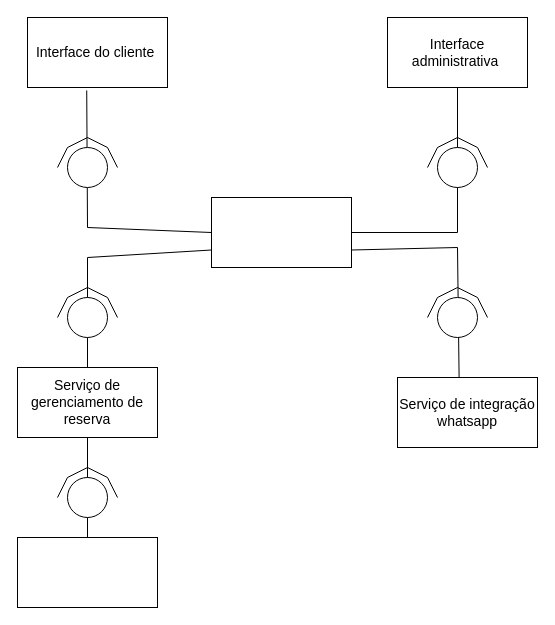
This 555x625 diagram has some shape labels left out. The shapes that lost their labels are listed below. From the top down, each one's centre as x and y in pixels, then its label:
pixel 281 232: Backend
pixel 87 572: Banco de dados
